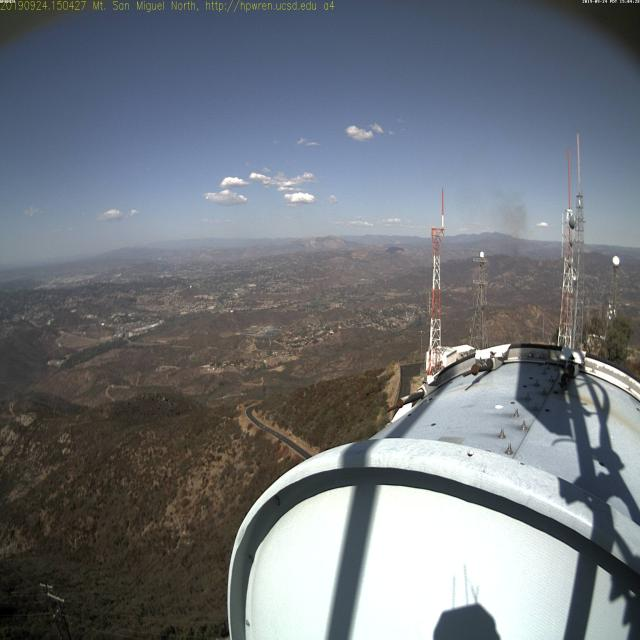smoke: (496, 215, 528, 264)
